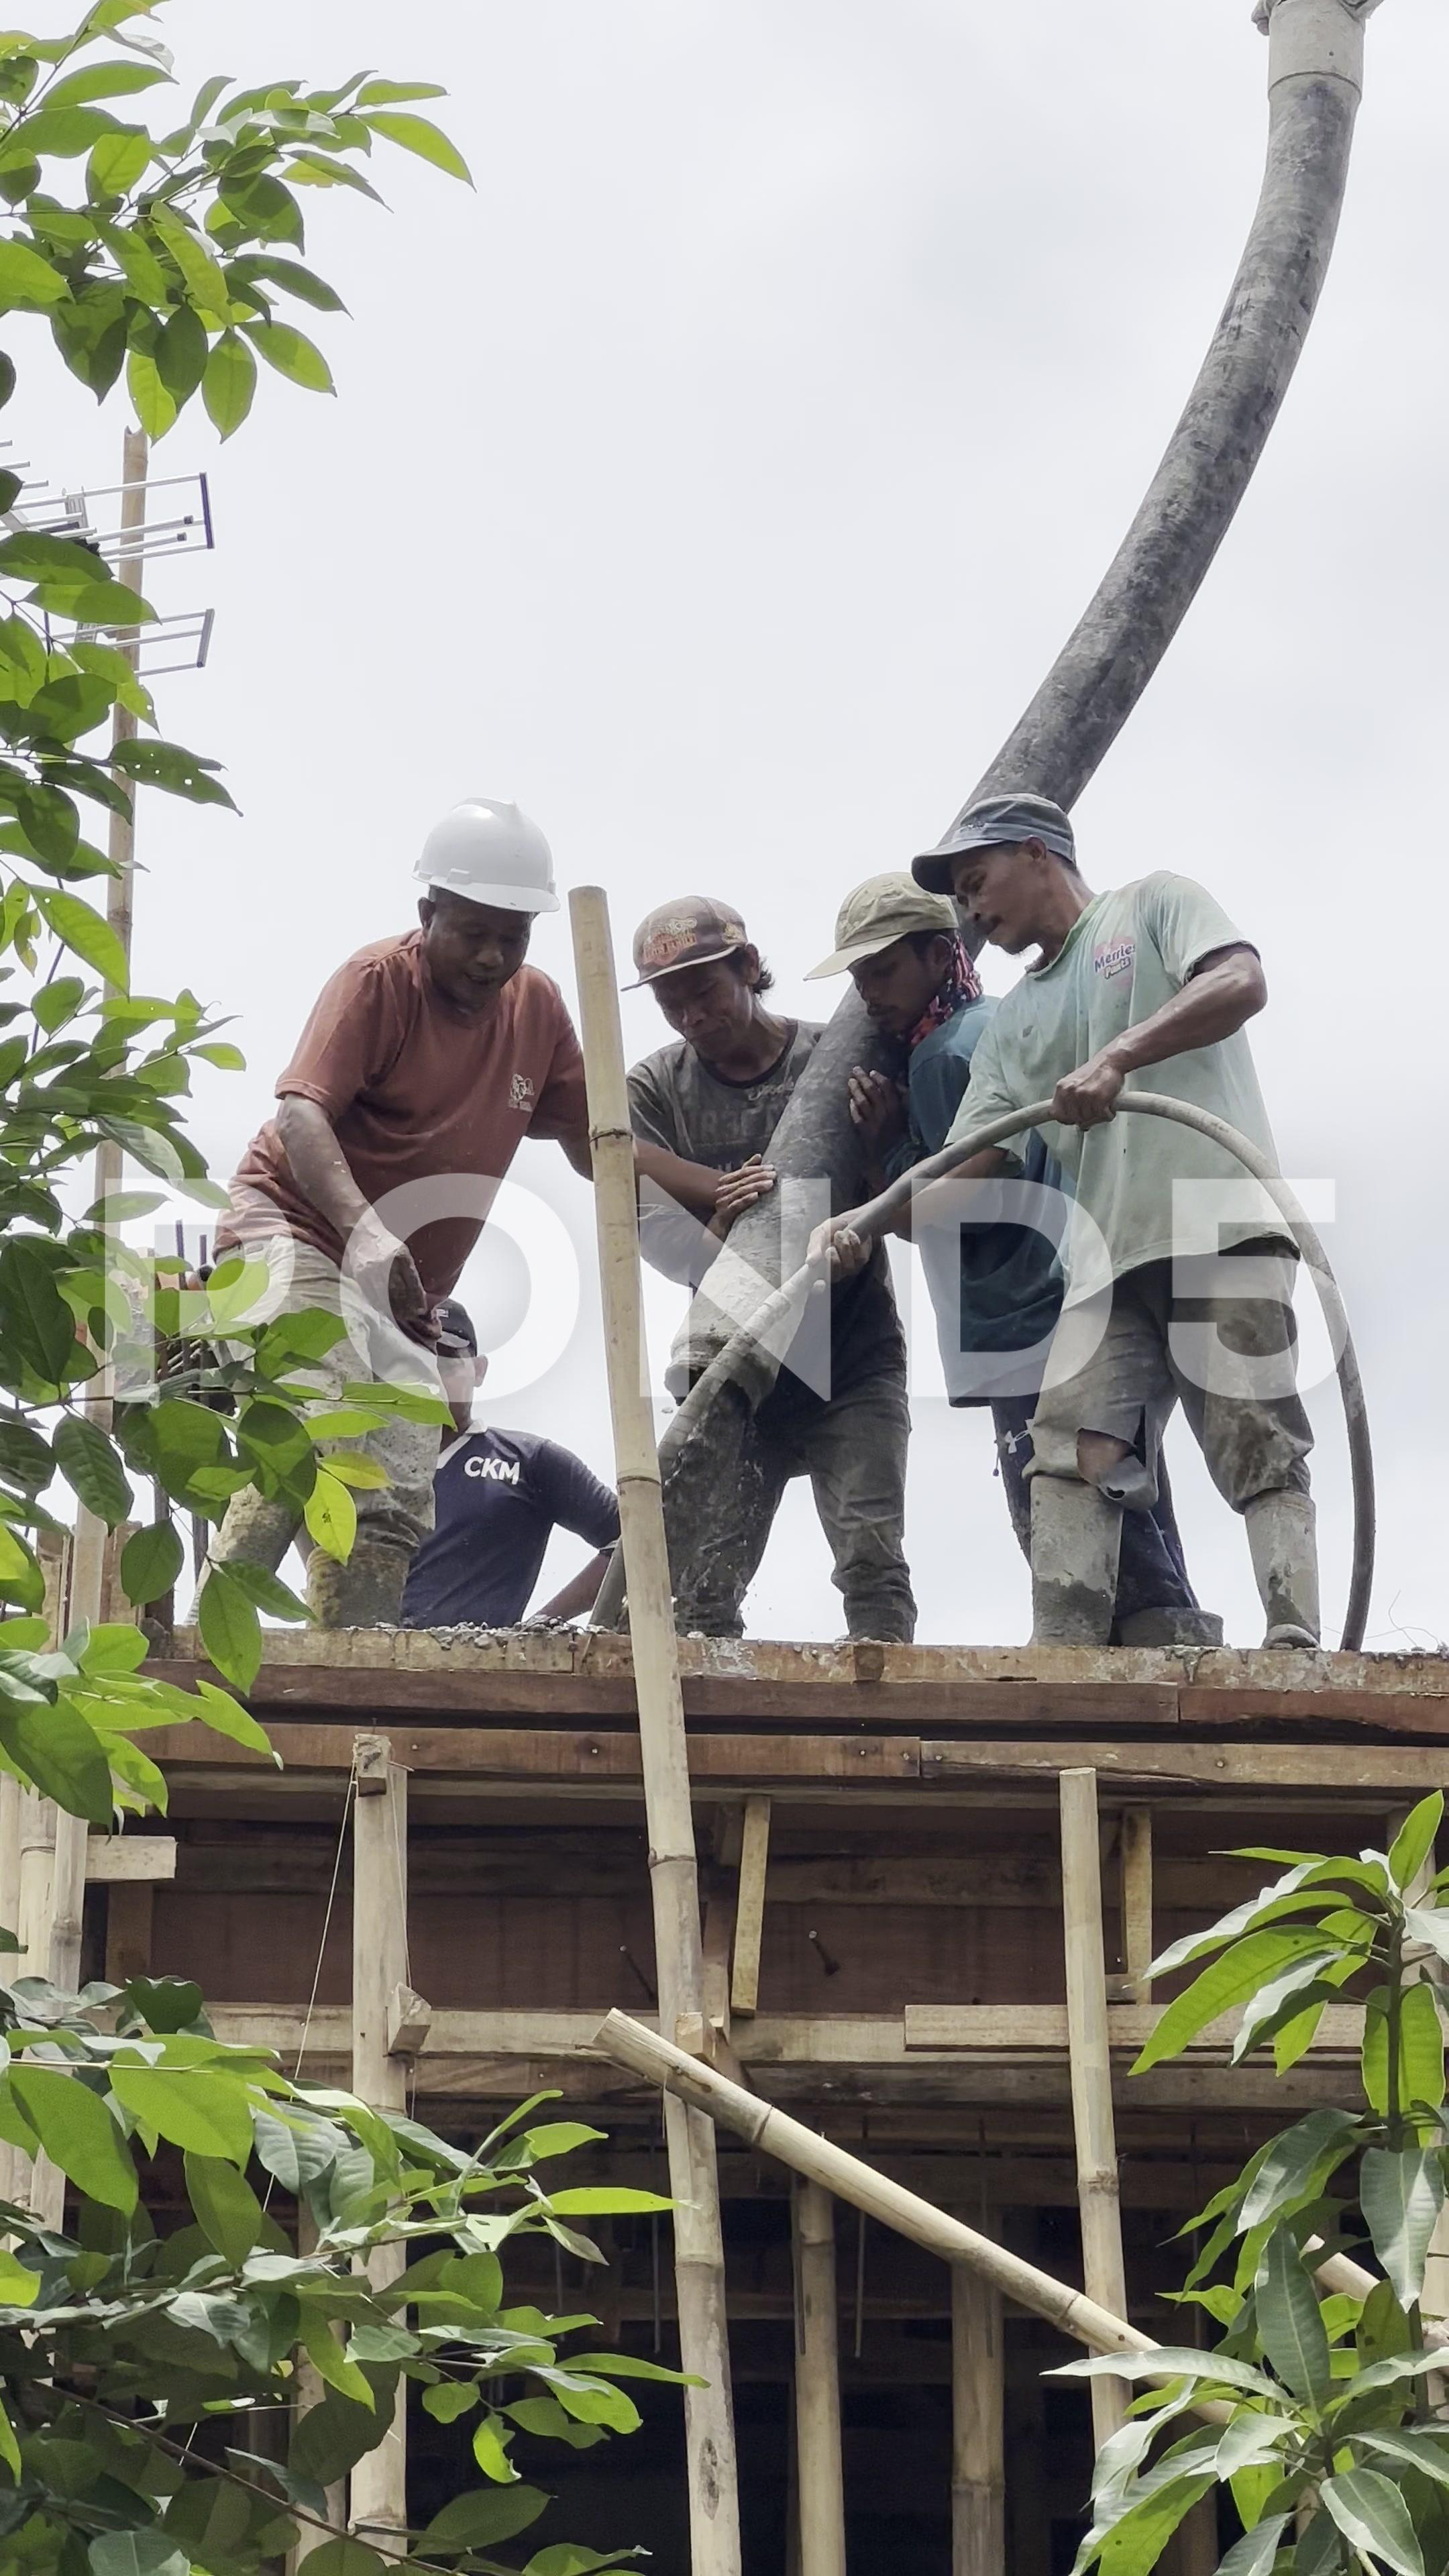hat: (383, 725, 588, 970)
no hat: (779, 833, 983, 1067), (893, 772, 1121, 977), (608, 836, 789, 1077)
no vest: (957, 843, 1299, 1352), (286, 869, 564, 1342), (618, 1014, 893, 1389), (863, 1004, 1081, 1376)
